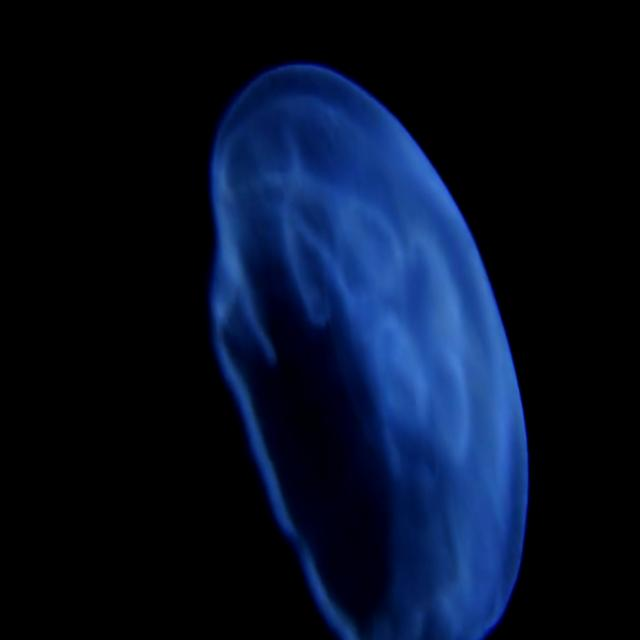Moon-jellyfish: (201, 51, 525, 640)
